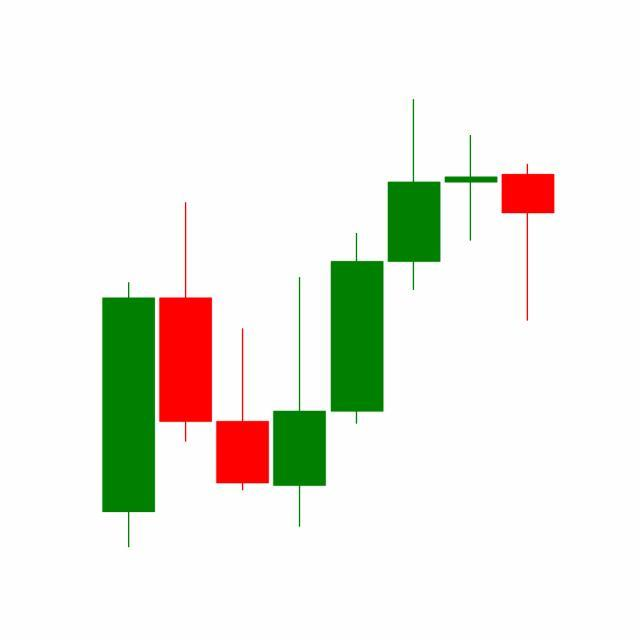Advance Block: (328, 99, 500, 428)
